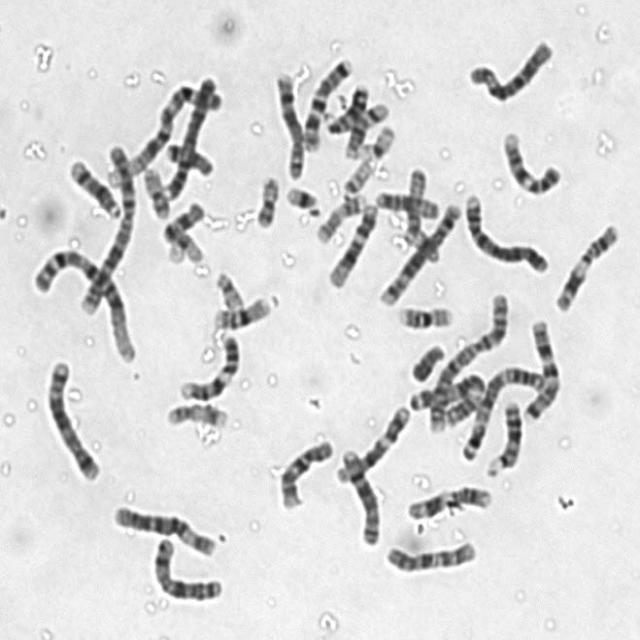A1: (100, 72, 223, 190), (24, 238, 139, 364)
A2: (420, 285, 512, 433), (72, 134, 138, 317)
A3: (455, 358, 548, 464), (403, 364, 489, 428)
B4: (458, 184, 550, 275), (157, 70, 220, 201)
B5: (373, 195, 463, 308), (39, 352, 103, 482)
C10: (272, 431, 335, 512), (379, 533, 479, 575)
C11: (548, 214, 622, 314), (400, 477, 494, 520)
C12: (329, 396, 413, 486), (322, 196, 380, 290)
C6: (107, 496, 218, 558), (462, 31, 554, 105)
C7: (296, 48, 356, 152), (517, 312, 563, 423)
C8: (333, 440, 382, 547), (268, 64, 307, 181)
C9: (173, 325, 242, 402), (496, 122, 564, 196)
D13: (480, 392, 525, 477), (317, 76, 370, 135)
D14: (62, 150, 122, 220), (339, 95, 391, 160)
D15: (369, 182, 442, 220), (398, 160, 427, 252)
E16: (207, 287, 273, 331), (392, 297, 456, 331)
E17: (310, 186, 368, 244), (159, 394, 230, 429)
E18: (159, 134, 217, 178), (156, 193, 206, 244)
F19: (352, 117, 397, 162), (160, 223, 205, 266)
F20: (137, 159, 172, 221), (250, 166, 282, 229)
G21: (403, 224, 444, 266), (279, 176, 322, 216)
G22: (336, 150, 377, 197), (208, 262, 246, 310)
X: (147, 530, 225, 603)
Y: (404, 335, 447, 383)
